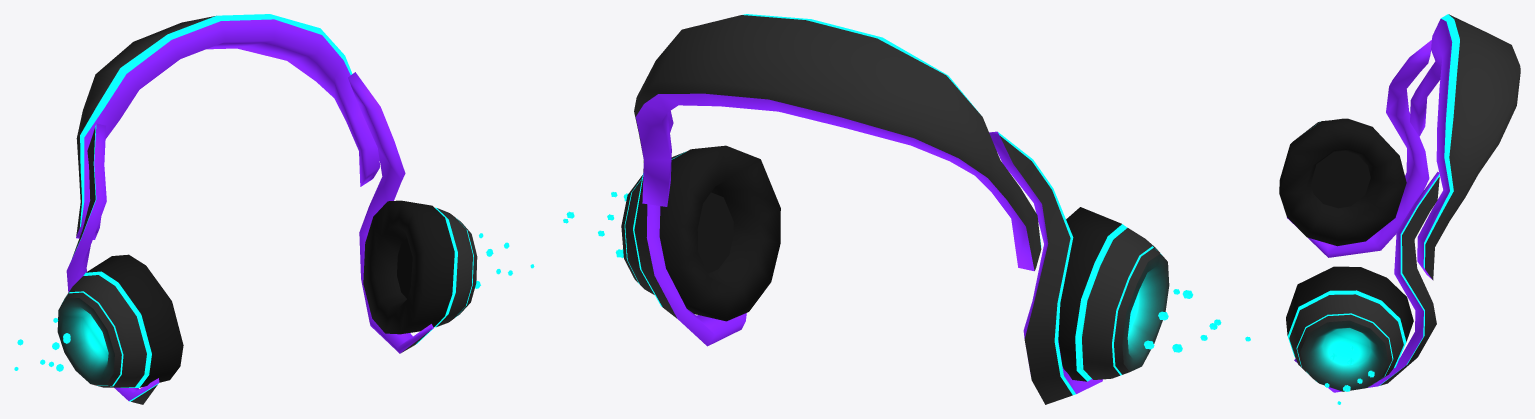
Rendered from Moon2.glb.
3 views of the same model, side by side, from view 1: azimuth 30°, elevation 25°; view 2: azimuth 150°, elevation 25°; view 3: azimuth 270°, elevation 25° (orthographic). The views are drawn at different scales.
Visible parts, largest first — view 1: F_hear_headphone; view 2: F_hear_headphone; view 3: F_hear_headphone.
Part boxes in pixels (box(x1,y1,x2,y2)): F_hear_headphone: box(14, 14, 534, 404); F_hear_headphone: box(563, 14, 1250, 404); F_hear_headphone: box(1279, 14, 1520, 404).
Size of what is drawn, in the model's own units: 1.59 by 0.9148 by 0.6707.
Materials: 1 (1 with a texture image).
